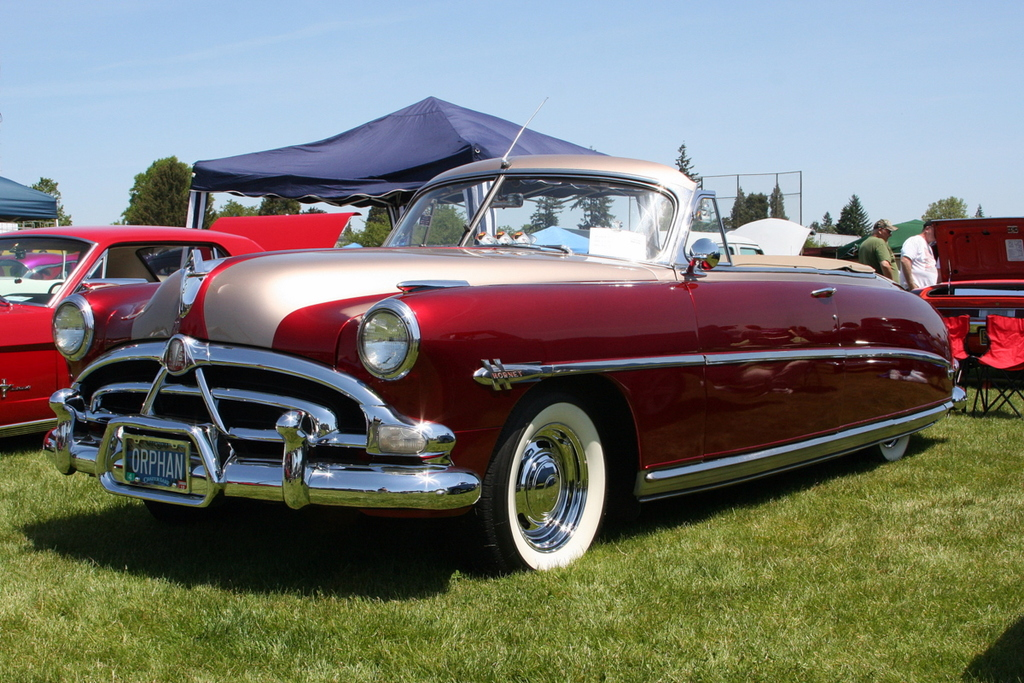Person: (857, 216, 898, 286), (898, 220, 937, 288)
